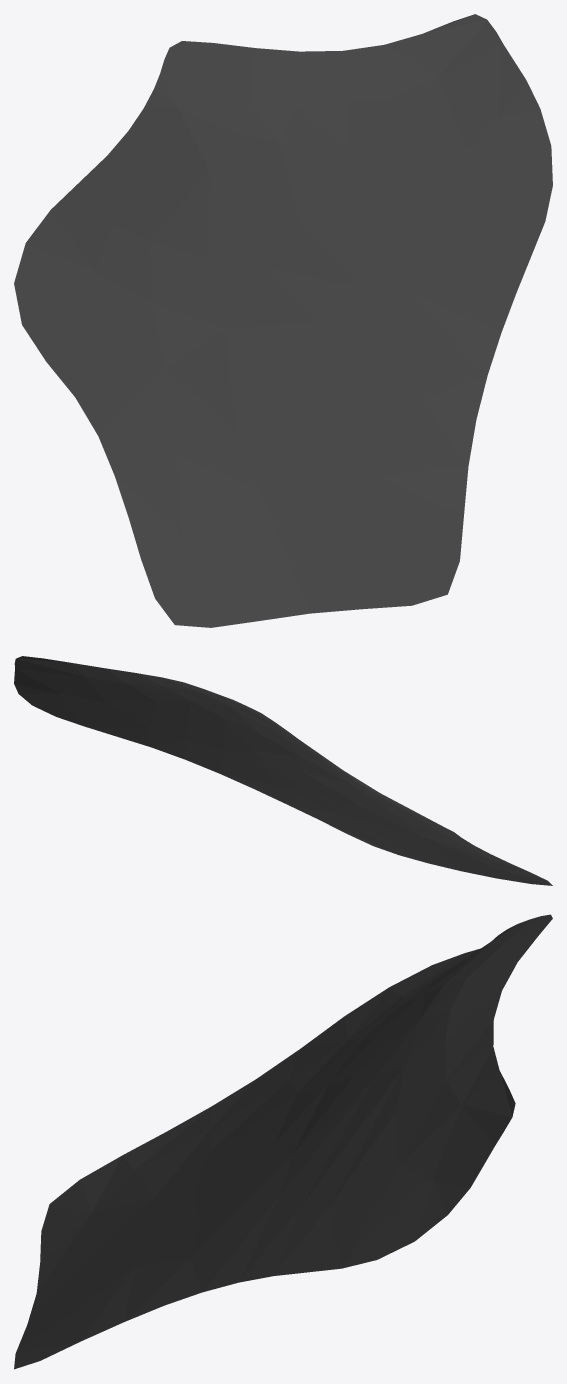
The model's file is Humerus_fossa_radius.glb.
3 renders of one model, top to bottom at view 1: azimuth 30°, elevation 25°; view 2: azimuth 150°, elevation 25°; view 3: azimuth 270°, elevation 25°, orthographic. The views are drawn at different scales.
Parts seen in each view (by area): view 1: Humerus_fossa_radius; view 2: Humerus_fossa_radius; view 3: Humerus_fossa_radius.
Boxes of the visible parts, x1,y1,x2,y2 form: Humerus_fossa_radius: [14, 14, 552, 627]; Humerus_fossa_radius: [14, 656, 552, 885]; Humerus_fossa_radius: [14, 914, 552, 1369].
Bounding box in the file's own units: 0.1672 × 0.1133 × 0.126.
Materials: 1 (1 with a texture image).
